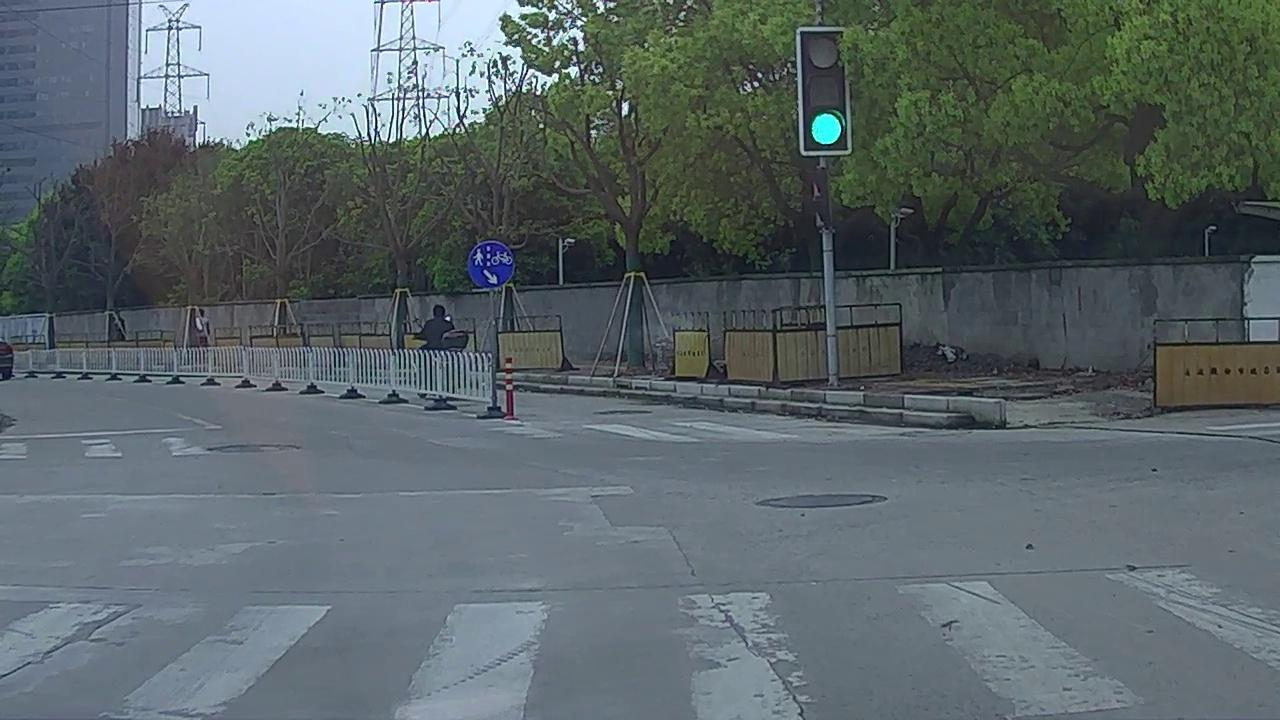traffic_light: (799, 25, 849, 152)
